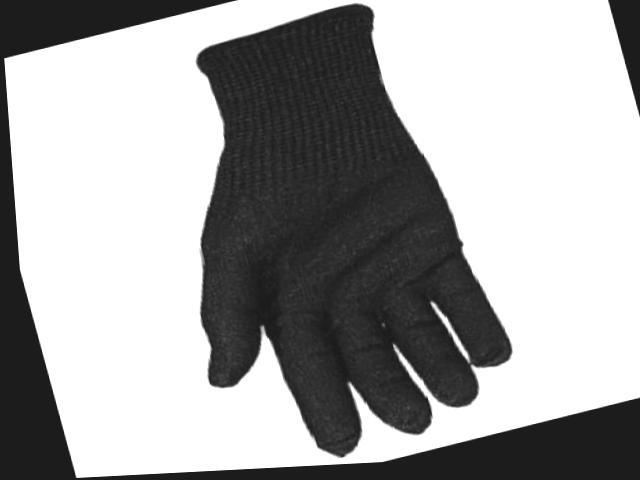Hand-in-Glove: (110, 0, 548, 476)
